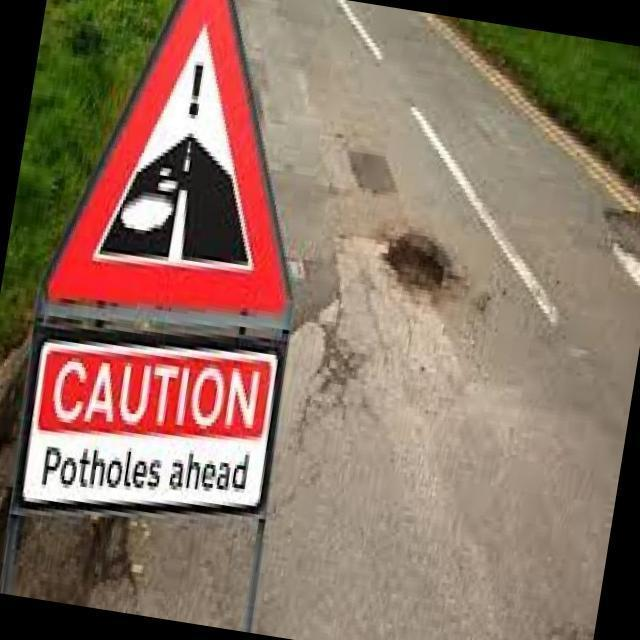Pothole: (386, 234, 458, 297), (609, 212, 640, 266)
